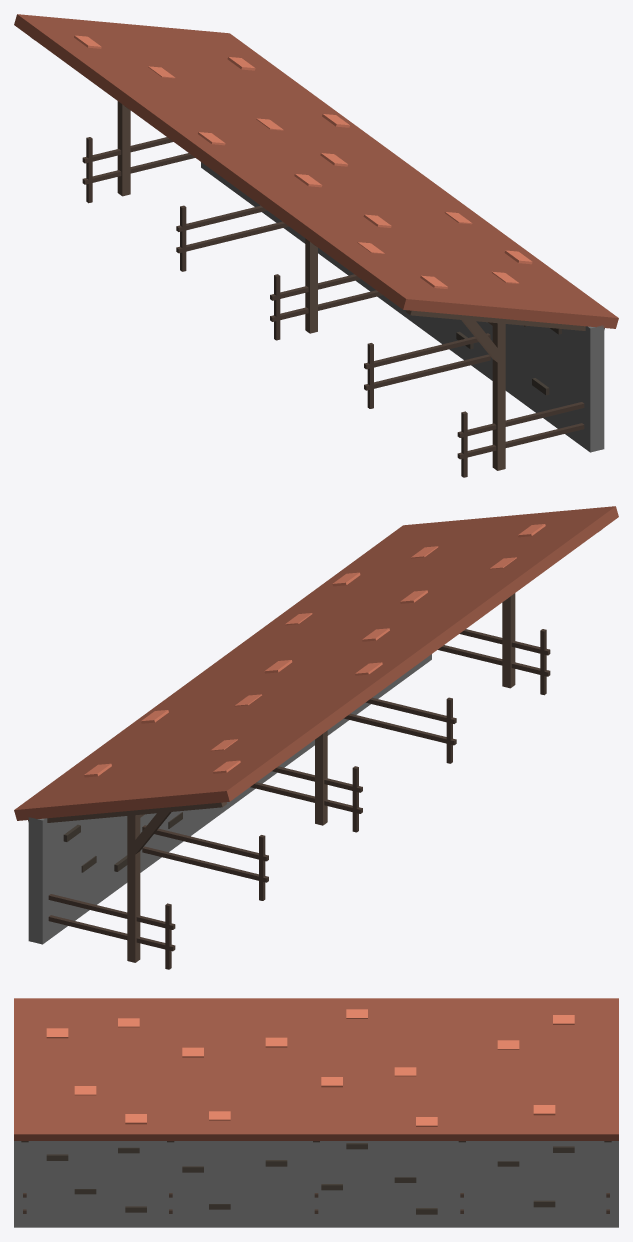
File: stable.glb
3 views of the same model, one above another, from view 1: azimuth 30°, elevation 25°; view 2: azimuth 150°, elevation 25°; view 3: azimuth 270°, elevation 25° (orthographic). The views are drawn at different scales.
Parts seen in each view (by area): view 1: Object_2; view 2: Object_2; view 3: Object_2.
Part boxes in pixels (bbox=[...]): Object_2: bbox=[14, 14, 618, 477]; Object_2: bbox=[14, 506, 618, 969]; Object_2: bbox=[14, 998, 618, 1227].
Bounding box in the file's own units: 3.73 × 3.28 × 11.65.
Materials: 1 (1 with a texture image).
